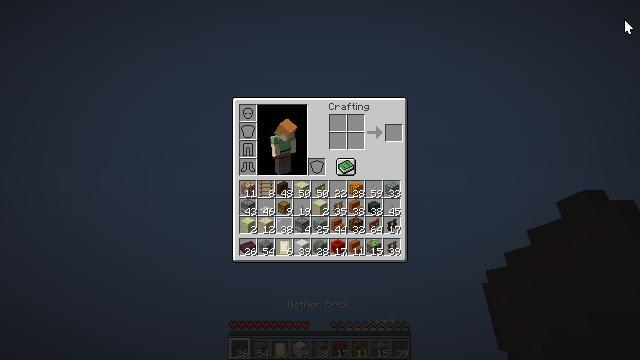cursor: (624, 19, 634, 35)
